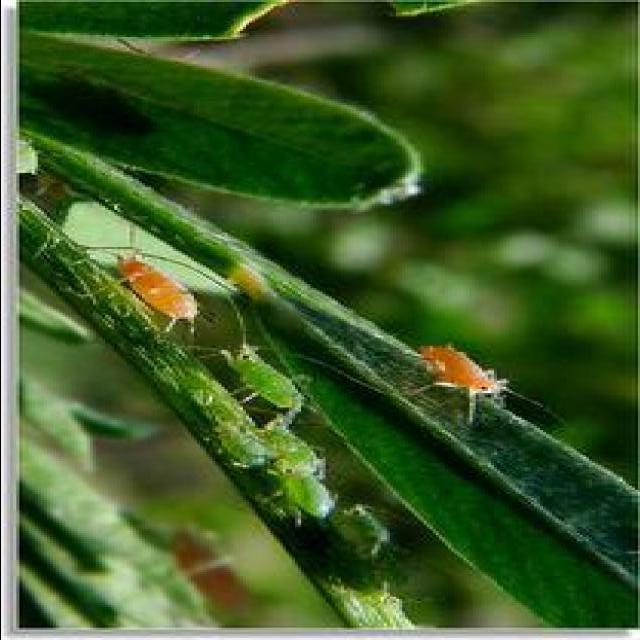aphid: (58, 237, 392, 548), (416, 342, 506, 413)
